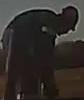helmet: (60, 5, 79, 32)
vest: (0, 8, 57, 50)
